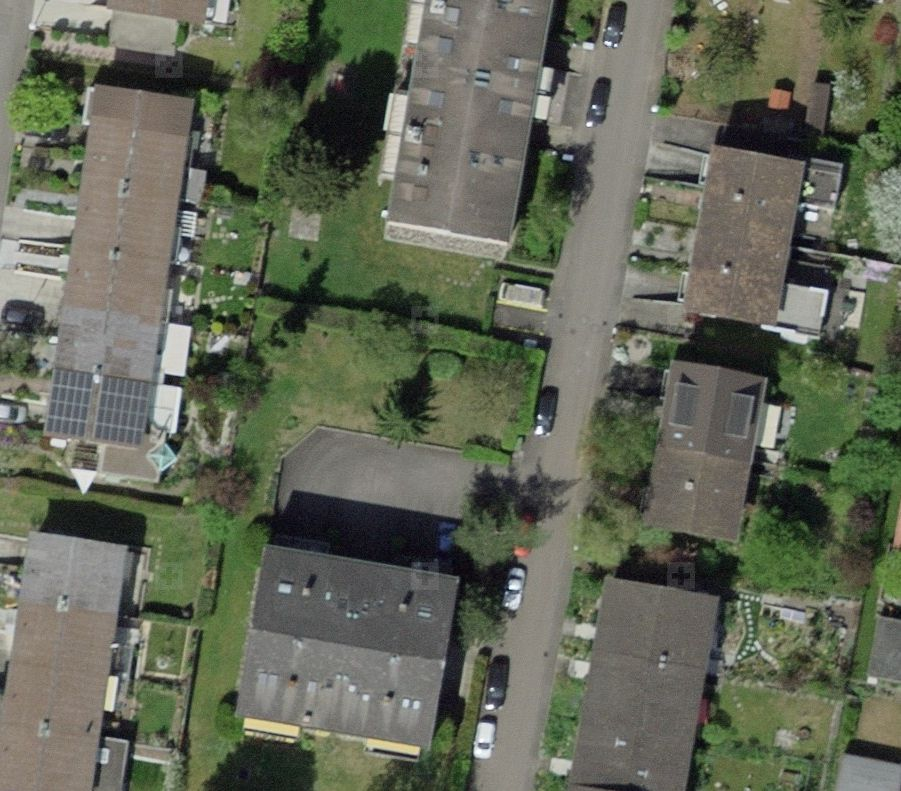solar: (46, 367, 155, 447)
